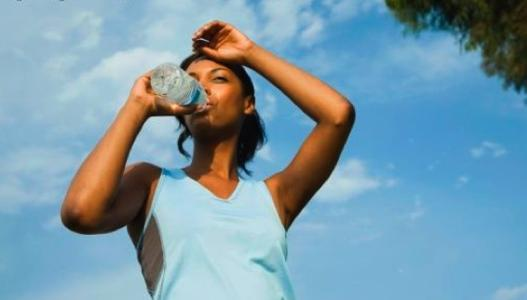person: (56, 20, 359, 300)
